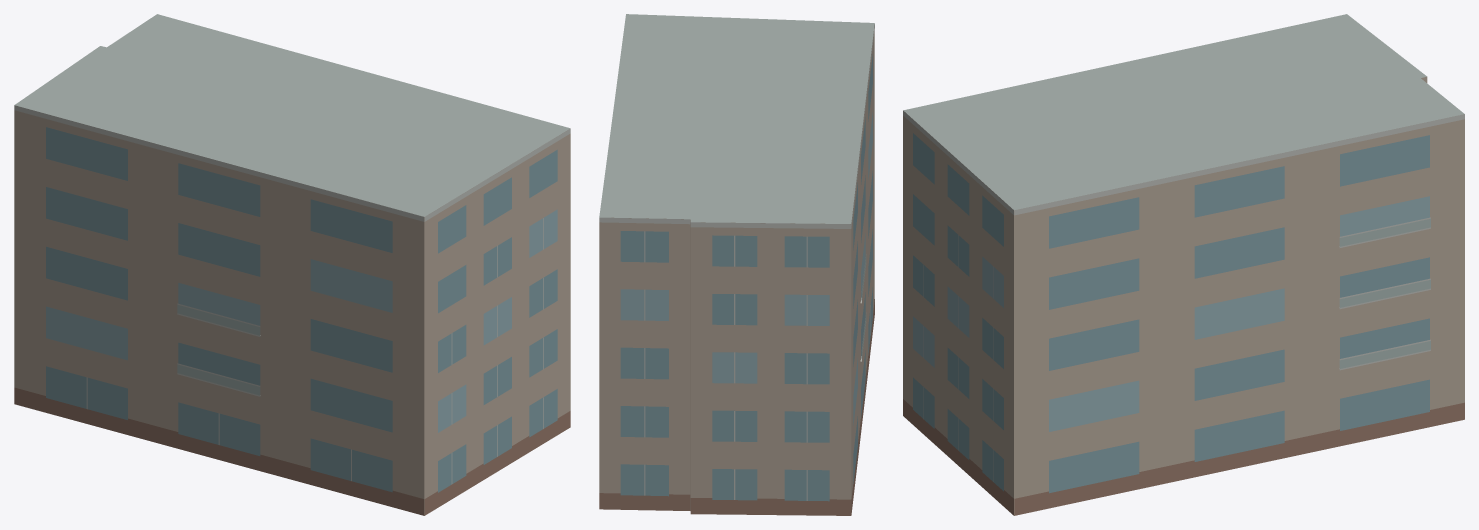
File: survey-upis-32698418.glb
3 views of the same model, side by side, from view 1: azimuth 30°, elevation 25°; view 2: azimuth 150°, elevation 25°; view 3: azimuth 270°, elevation 25° (orthographic). The views are drawn at different scales.
Parts seen in each view (by area): view 1: survey-upis-32698418.tmp; view 2: survey-upis-32698418.tmp; view 3: survey-upis-32698418.tmp.
Boxes of the visible parts, x1,y1,x2,y2 form: survey-upis-32698418.tmp: [14, 14, 570, 515]; survey-upis-32698418.tmp: [599, 14, 874, 515]; survey-upis-32698418.tmp: [903, 14, 1464, 515].
Size of the model in its own units: 19.9 by 14.44 by 24.06.
